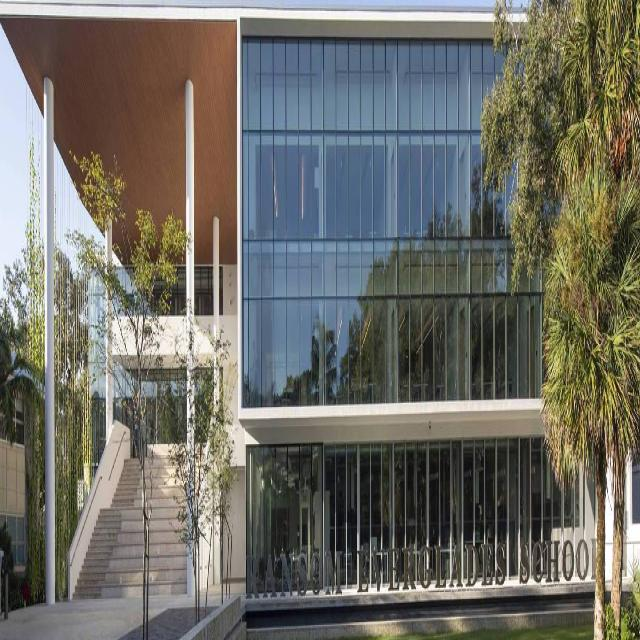plant: (480, 9, 637, 625), (73, 156, 196, 625), (168, 306, 238, 625)
wall: (4, 9, 637, 624)
windows: (246, 36, 550, 402), (250, 440, 580, 609), (117, 364, 218, 464), (117, 271, 190, 321), (199, 278, 218, 320)
